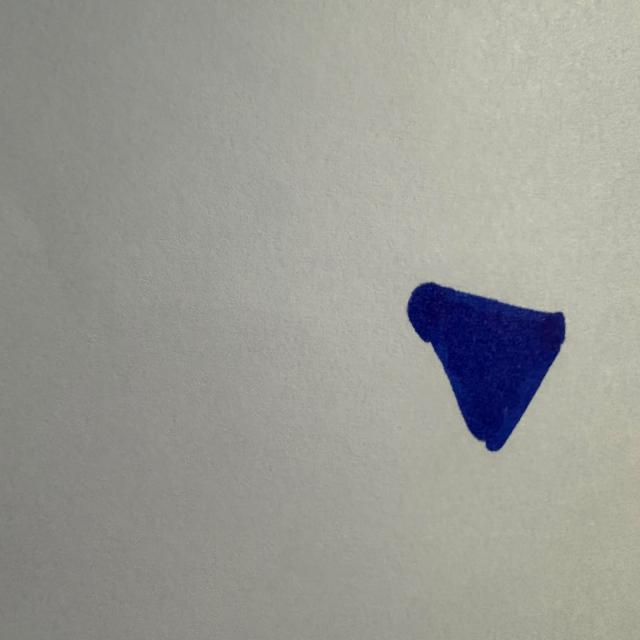Triangle: (407, 283, 564, 451)
